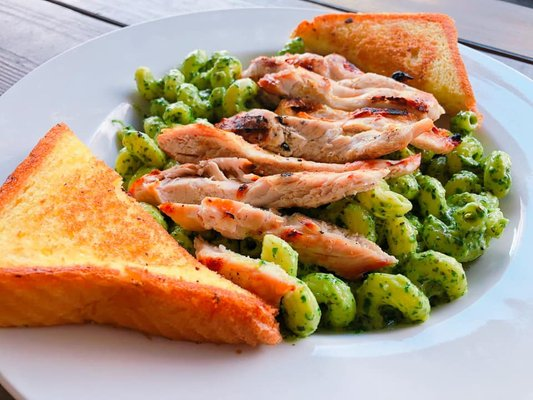soup: (0, 121, 283, 347), (285, 12, 478, 125)
